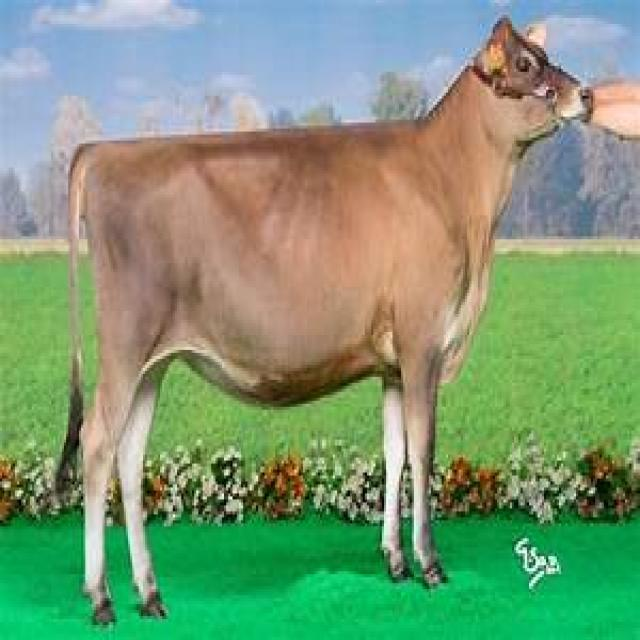cow: (58, 19, 579, 621)
